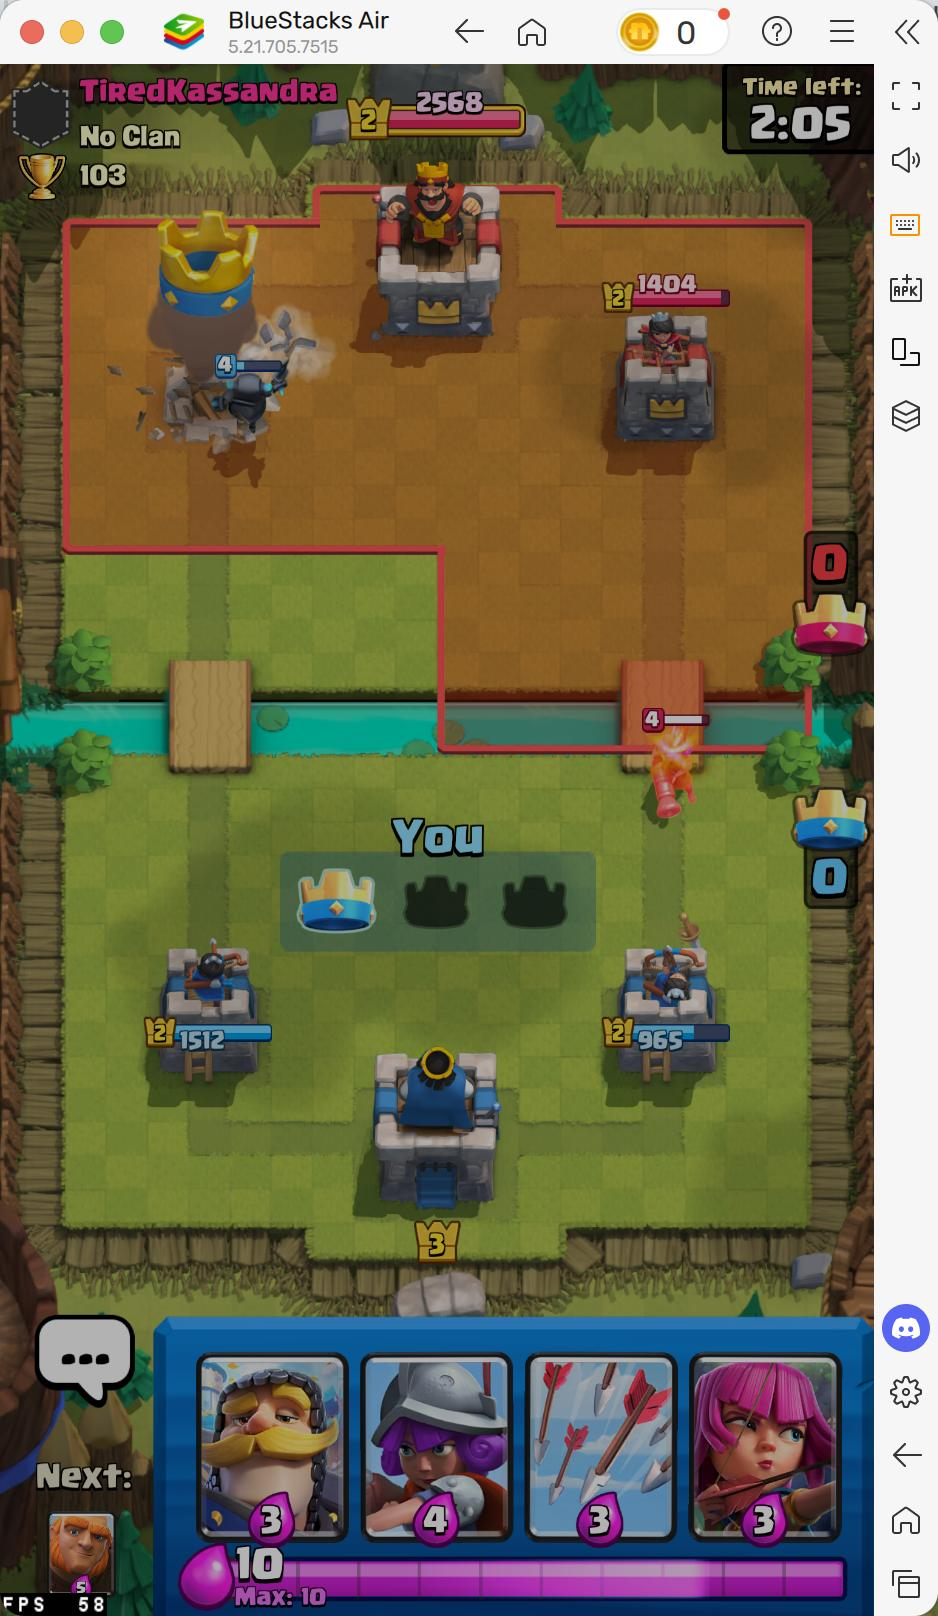0: (250, 1543, 284, 1584), (791, 104, 825, 142), (661, 271, 682, 296)
1: (234, 1542, 253, 1585), (636, 270, 649, 296), (178, 1028, 190, 1052), (200, 1029, 212, 1050)
14: (607, 945, 715, 1078), (157, 943, 262, 1078)
2: (747, 103, 777, 142), (413, 89, 433, 116), (210, 1029, 227, 1051)
3: (253, 1500, 286, 1540), (585, 1501, 614, 1539), (752, 1501, 776, 1539)
4: (421, 1501, 451, 1539), (679, 271, 700, 295), (647, 271, 664, 295)
5: (823, 103, 852, 143), (430, 90, 449, 115), (667, 1028, 685, 1052), (186, 1028, 203, 1052), (73, 1578, 89, 1599)
7: (446, 88, 467, 115), (651, 1027, 669, 1052)
Battle: (465, 88, 485, 116)
Enemy Tower: (636, 1027, 653, 1052)
